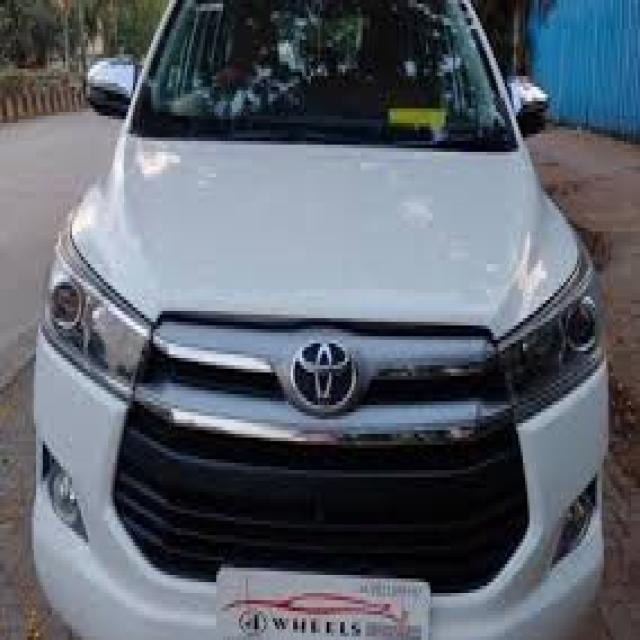light_vehicle: (33, 0, 608, 640)
